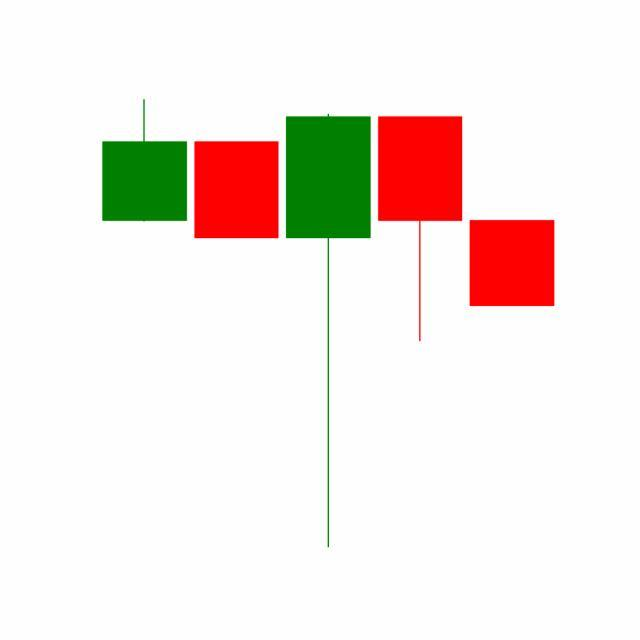Marubozu: (466, 219, 559, 307)
